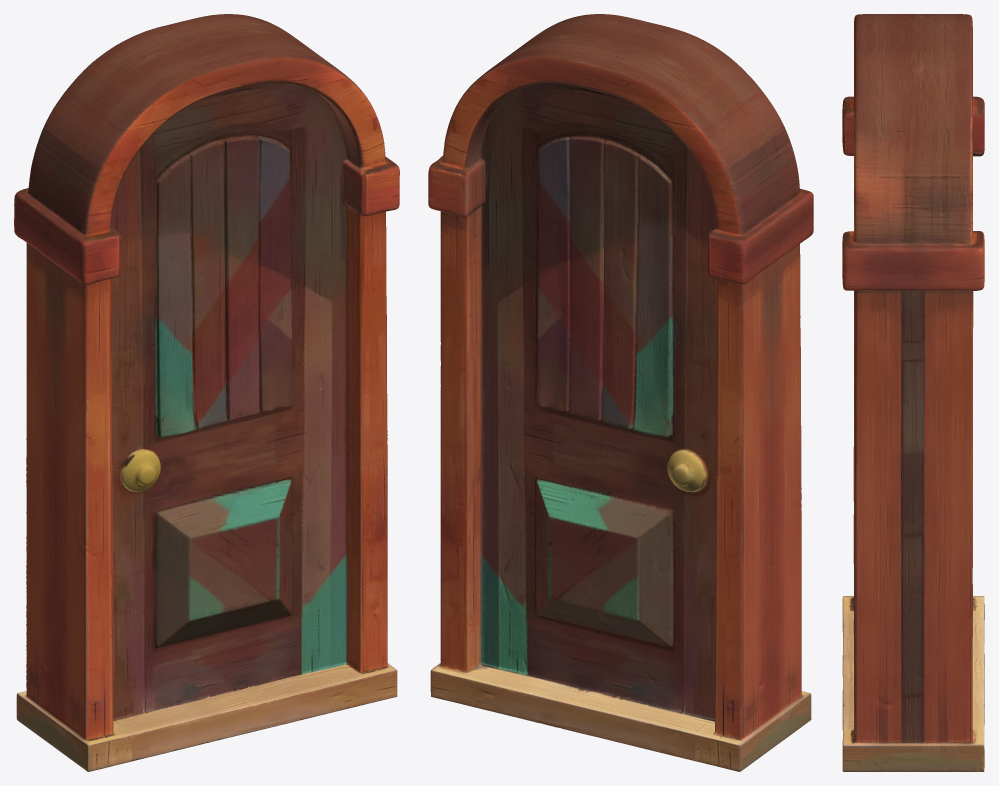
The model's file is Meshy_AI_Patchwork_Arch_Door_0417044914_texture.fbx.
3 renders of one model, left to right at view 1: azimuth 30°, elevation 25°; view 2: azimuth 150°, elevation 25°; view 3: azimuth 270°, elevation 25°, orthographic.
Parts seen in each view (by area): view 1: Mesh_0; view 2: Mesh_0; view 3: Mesh_0.
Part boxes in pixels (<box>): Mesh_0: <box>14,14,399,771</box>; Mesh_0: <box>428,14,813,771</box>; Mesh_0: <box>842,14,984,771</box>.
Size of the model in its own units: 95.02 by 190 by 37.18.
Materials: 1 (1 with a texture image).
